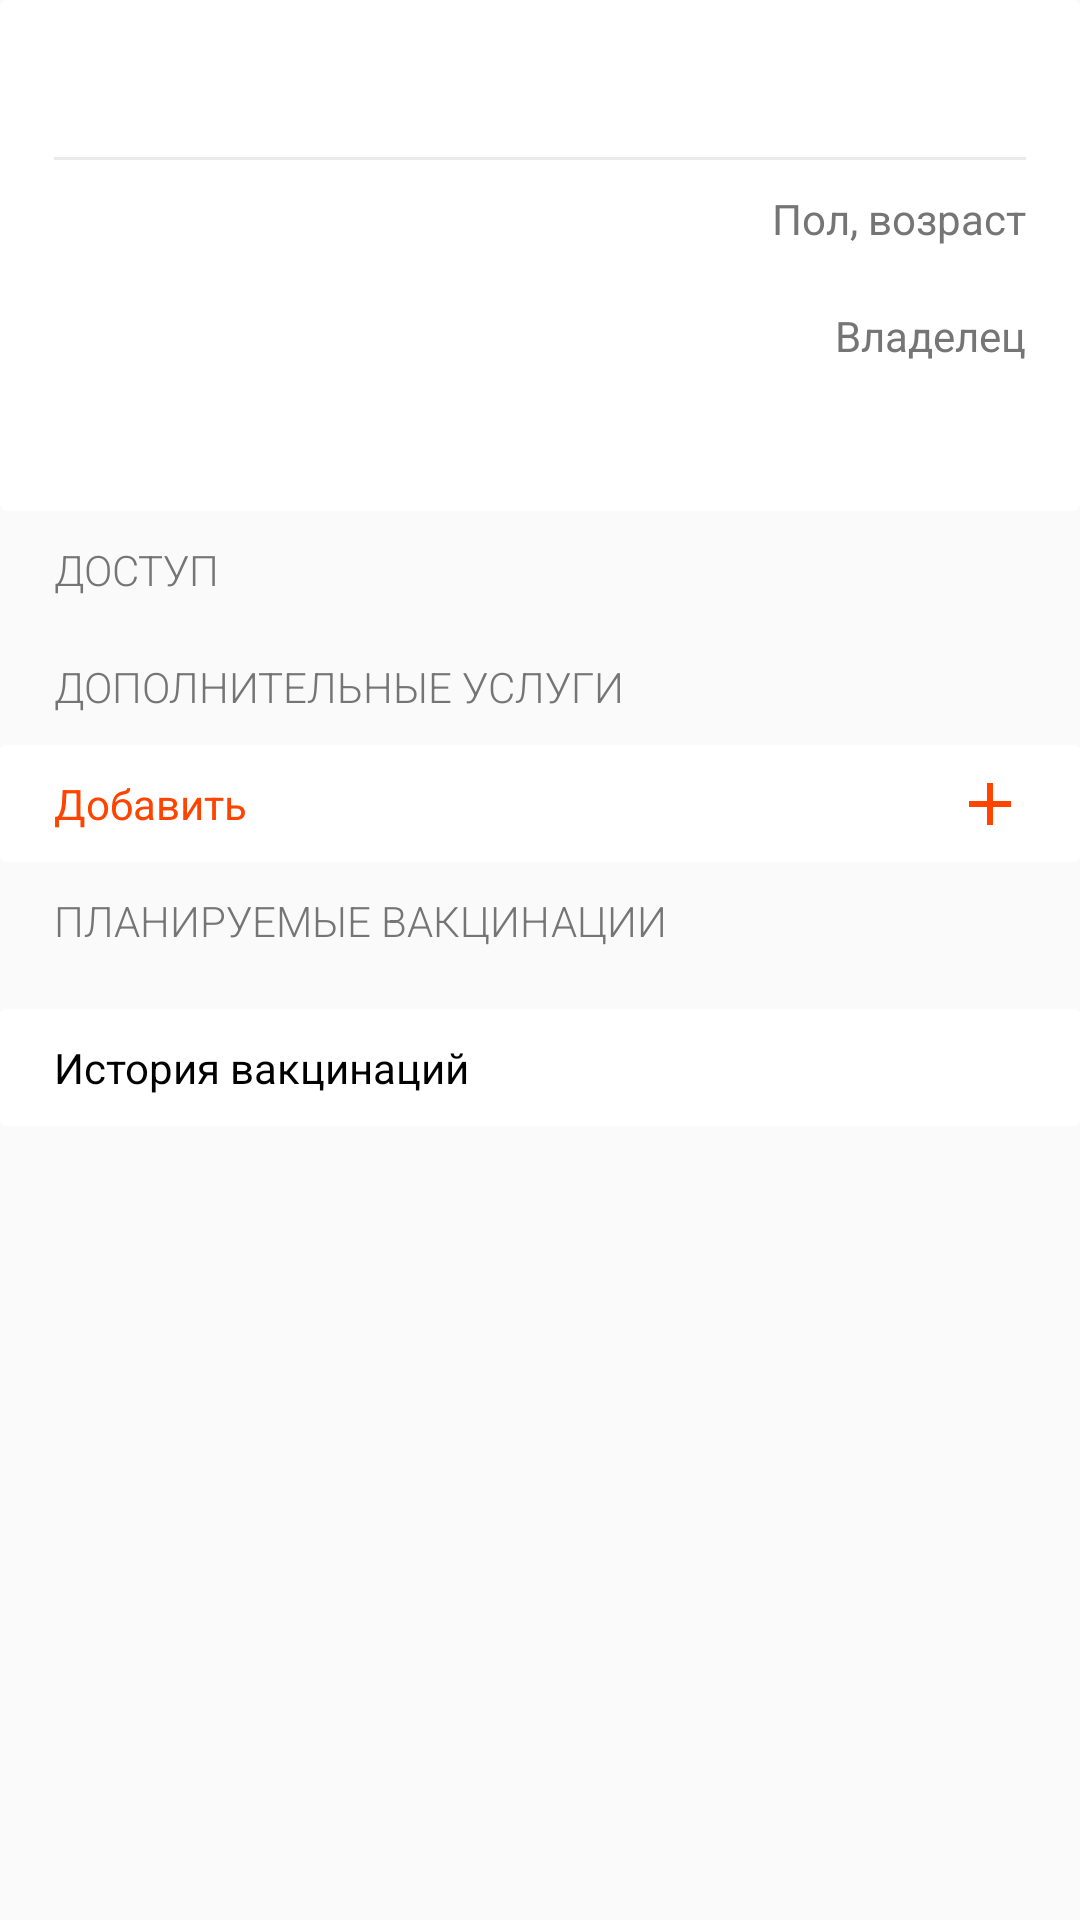

Icon click points for this 1080w x 1920h phone screenshot, format point (x, y):
Иконка добавления дополнительной услуги: point (990, 804)
